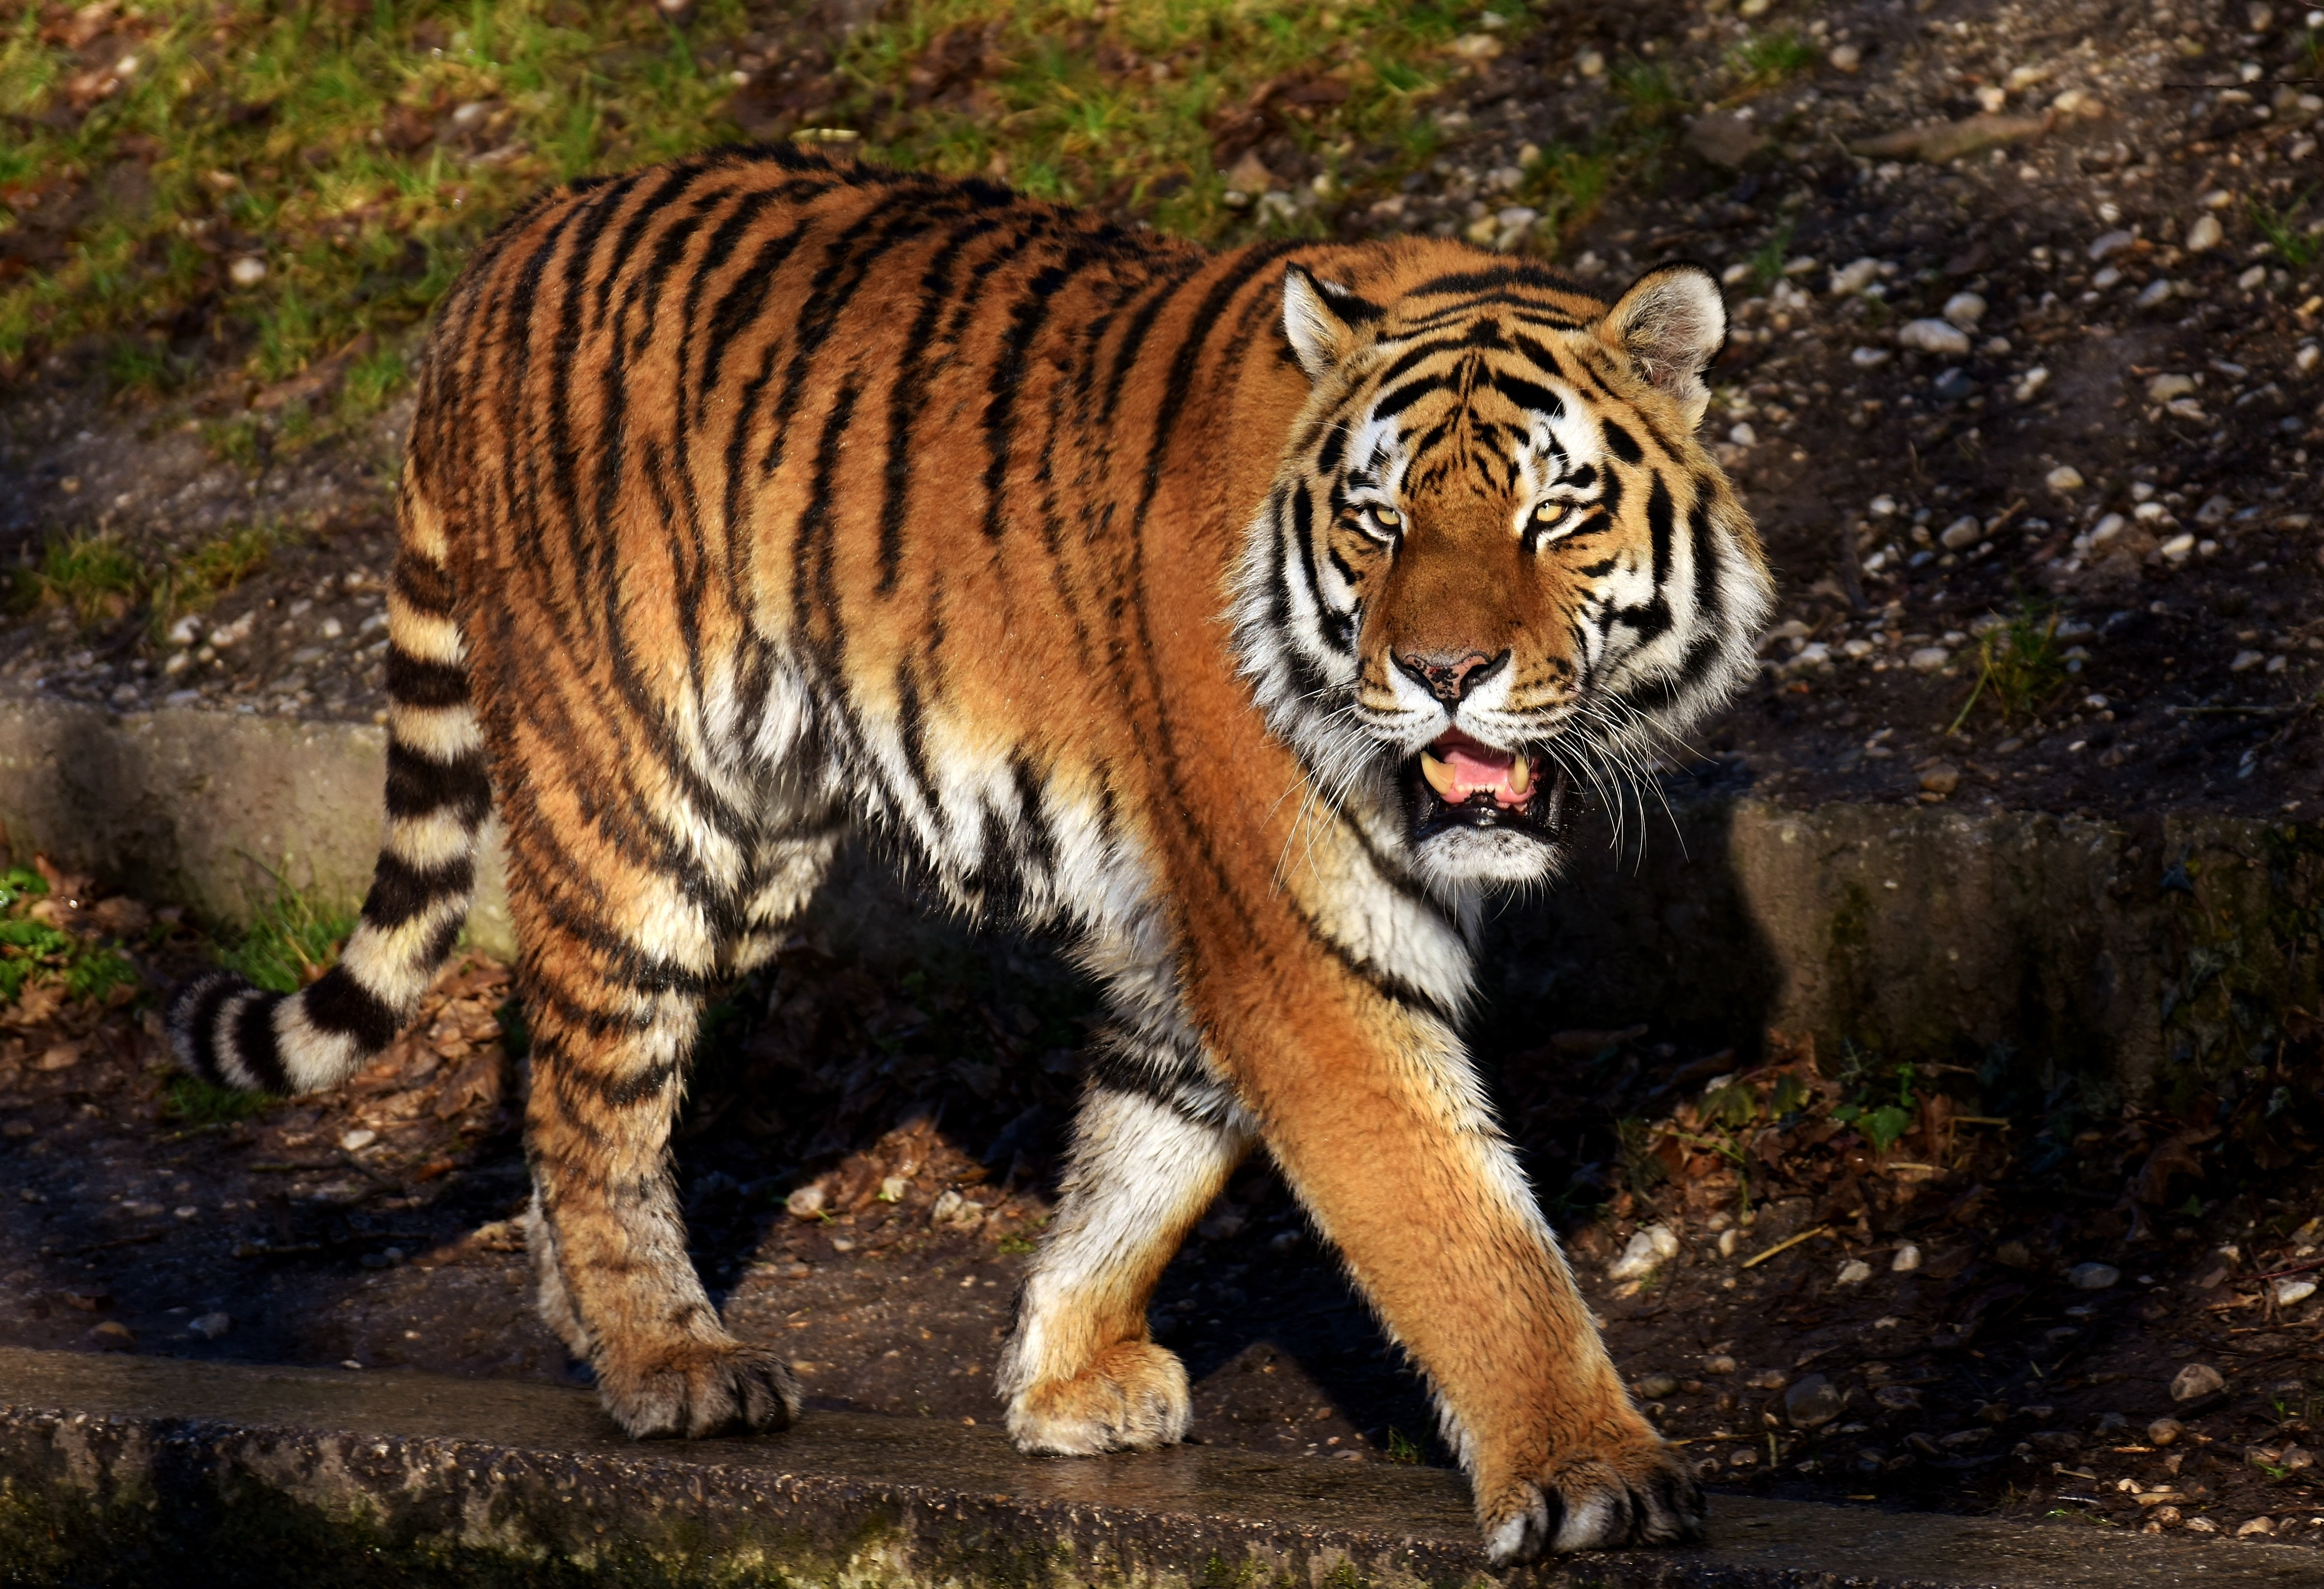tiger: (328, 145, 1757, 1444)
